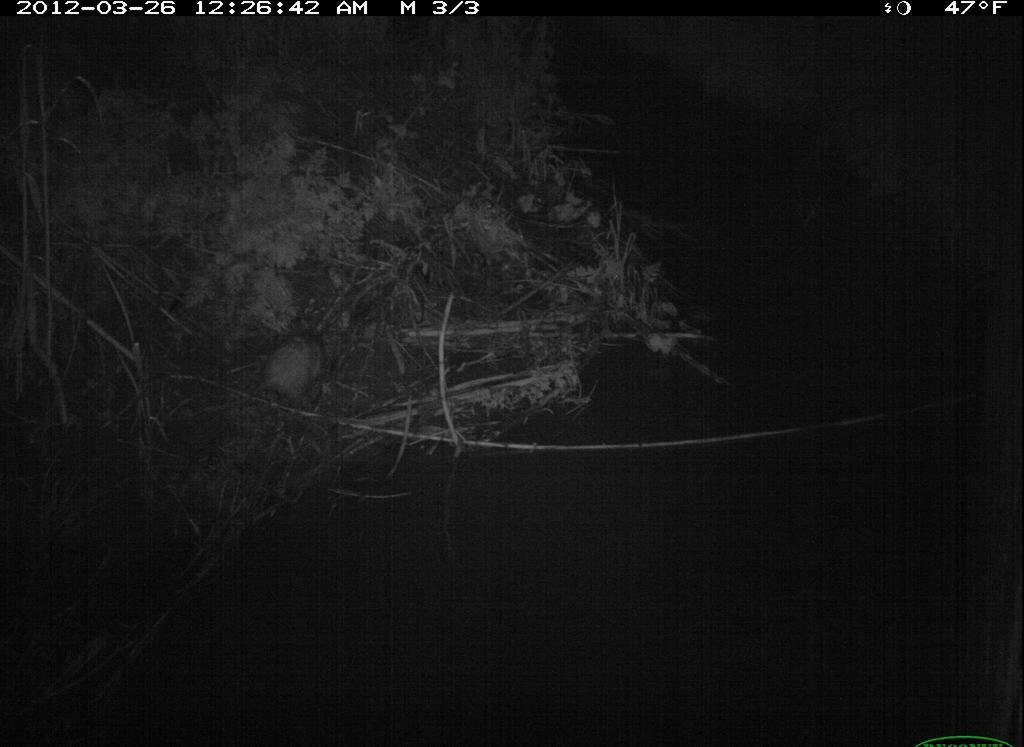opossum: (246, 326, 336, 415)
